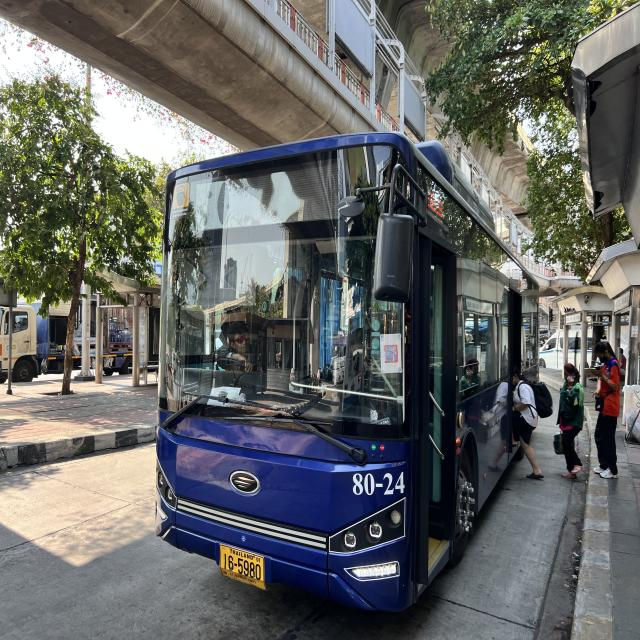Bus-Line-Number: (285, 163, 344, 223)
Destination-Sign-Normal: (184, 174, 280, 225)
TSB-Bus: (155, 133, 538, 616)
